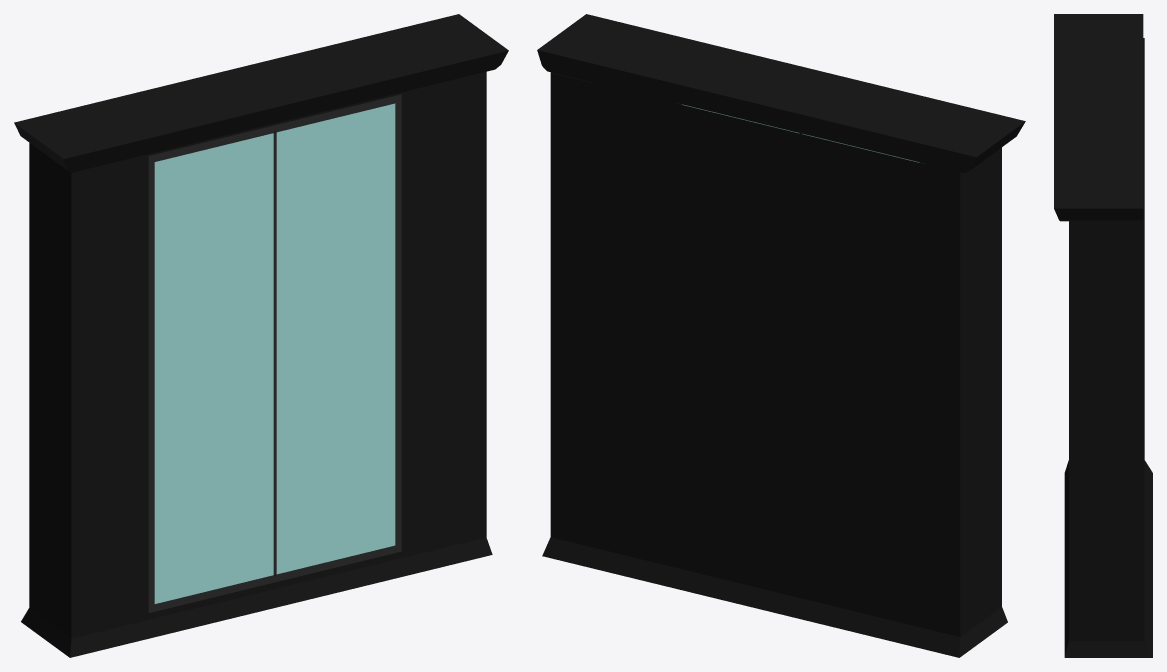
The model's file is wardrobeGlass.fbx.
3 renders of one model, left to right at view 1: azimuth 30°, elevation 25°; view 2: azimuth 150°, elevation 25°; view 3: azimuth 270°, elevation 25°, orthographic. The views are drawn at different scales.
Parts seen in each view (by area): view 1: Body, Top; view 2: Body, Top; view 3: Body, Top.
Part boxes in pixels (<box>): Body: <box>21,71,492,657</box>; Top: <box>14,14,508,172</box>; Body: <box>542,72,1007,657</box>; Top: <box>537,14,1025,173</box>; Body: <box>1064,38,1152,657</box>; Top: <box>1054,14,1143,221</box>.
Size of the model in its own units: 716 by 778 by 154.
